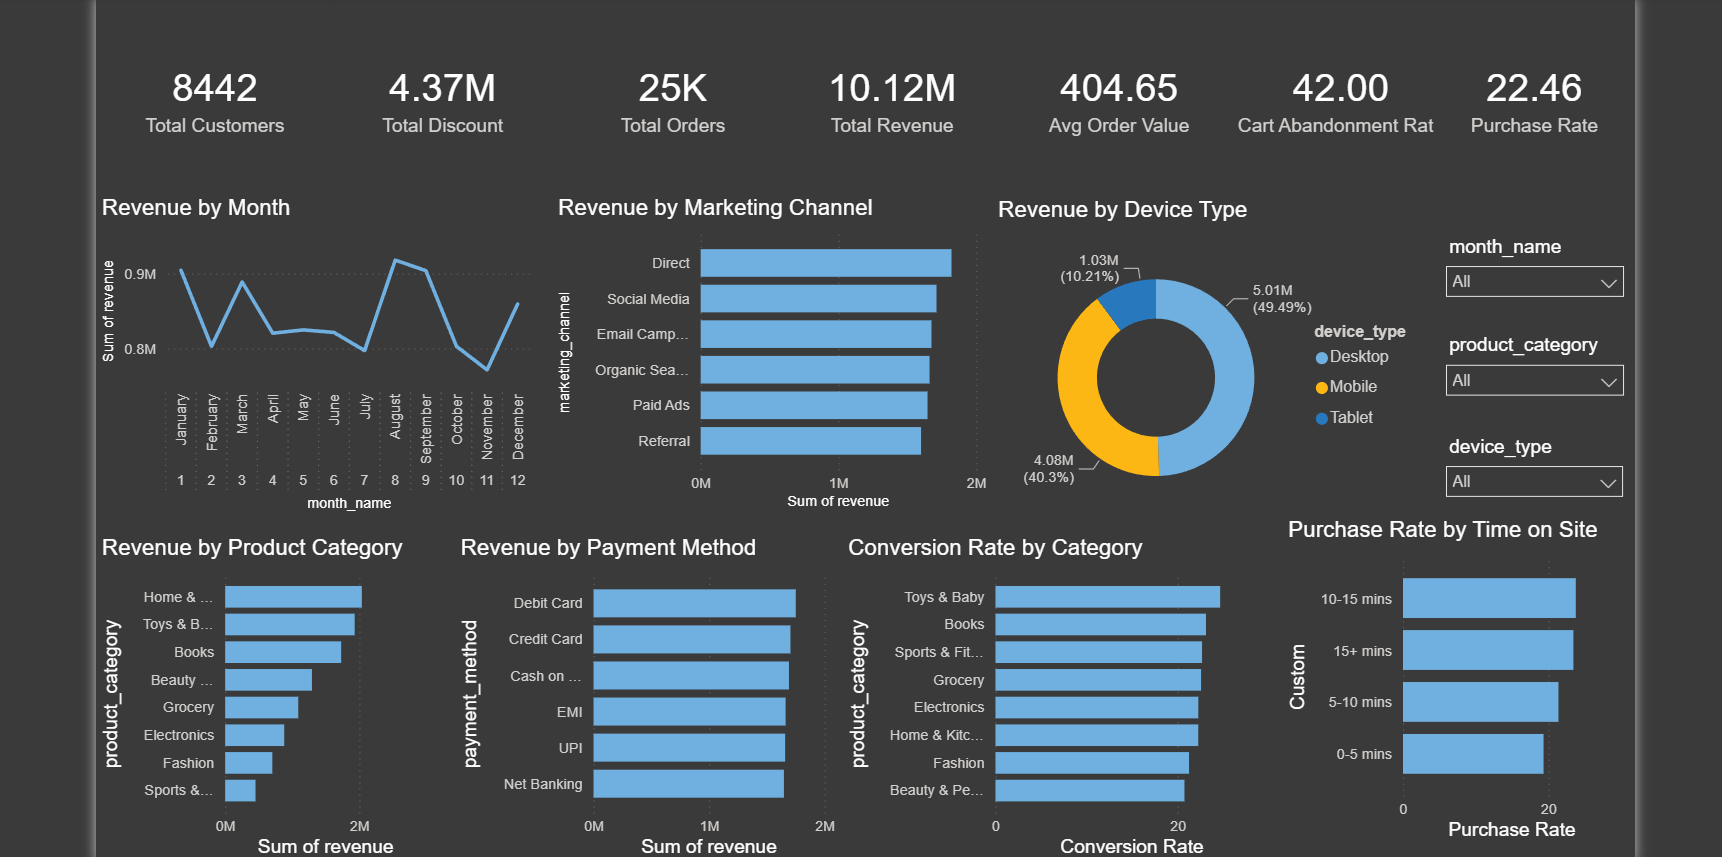

What the dashboard file says about the page in this screenshot:
{"tool":"powerbi","page":{"name":"Overview","canvas":[1280,900],"ordinal":0},"visuals":[{"type":"shape","box":[0,0,280,898.3],"z":0},{"type":"textbox","box":[12.8,47.7,239.5,122.1],"z":1000},{"type":"actionButton","box":[55.7,292.9,162.9,40],"z":2000},{"type":"actionButton","box":[62.9,358.6,158.6,40],"z":3000},{"type":"slicer","title":"Month","fields":{"Values":["ecommerce_cleaned_v2.month_name"]},"box":[54.2,455.8,170,96.7],"z":4000},{"type":"actionButton","box":[83.3,842.2,98.8,39.5],"z":7000},{"type":"donutChart","title":"Revenue by Device Type","fields":{"Y":["Sum(ecommerce_cleaned_v2.revenue)"],"Category":["ecommerce_cleaned_v2.device_type"]},"box":[279.9,486.3,265.5,414],"z":8000},{"type":"barChart","title":"Revenue by Product Category","fields":{"Category":["ecommerce_cleaned_v2.product_category"],"Y":["Sum(ecommerce_cleaned_v2.revenue)"]},"box":[545.4,486.3,320.7,412.7],"z":9000},{"type":"barChart","title":"Revenue by Marketing Channel","fields":{"Category":["ecommerce_cleaned_v2.marketing_channel"],"Y":["Sum(ecommerce_cleaned_v2.revenue)"]},"box":[866.1,109.1,414,251],"z":10000},{"type":"lineChart","title":"Revenue by Month","fields":{"Category":["ecommerce_cleaned_v2.month_name"],"Y":["Sum(ecommerce_cleaned_v2.revenue)"]},"box":[279.9,105.1,575.6,374.6],"z":11000},{"type":"actionButton","box":[57.1,225.7,164.3,40],"z":12000},{"type":"shape","box":[280,0,1000,108.6],"z":13000},{"type":"card","fields":{"Values":["churn_by_channel.Total Customers"]},"box":[293.1,3.1,198.5,102.3],"z":14000},{"type":"card","fields":{"Values":["churn_by_channel.Total Orders"]},"box":[507,3,172,102],"z":15000},{"type":"card","fields":{"Values":["churn_by_channel.Total Revenue"]},"box":[693.9,2.6,172.2,102.5],"z":16000},{"type":"card","fields":{"Values":["churn_by_channel.Avg Order Value"]},"box":[880.6,2.6,191.9,102.5],"z":17000},{"type":"card","fields":{"Values":["churn_by_channel.Purchase Rate"]},"box":[1096.1,2.6,169.5,102.5],"z":18000},{"type":"barChart","title":"Revenue by Payment Method","fields":{"Category":["ecommerce_cleaned_v2.payment_method"],"Y":["Sum(ecommerce_cleaned_v2.revenue)"]},"box":[866.1,360.1,414,252.3],"z":19000},{"type":"barChart","title":"Conversion Rate by Category","fields":{"Category":["ecommerce_cleaned_v2.product_category"],"Y":["churn_by_channel.Conversion Rate"]},"box":[866.1,625.6,414,273.4],"z":20000},{"type":"shape","box":[20,168.6,240,45],"z":21000},{"type":"shape","box":[19.2,410.8,240,45],"z":22000},{"type":"slicer","title":"Product Category","fields":{"Values":["ecommerce_cleaned_v2.product_category"]},"box":[52.2,552.2,170,97.1],"z":23000},{"type":"slicer","title":"Device Type","fields":{"Values":["ecommerce_cleaned_v2.device_type"]},"box":[48.9,648.9,170,96.7],"z":24000}]}

Visuals, with their boxes on the page's 1280x900 design canvas (x1, y1, x2, y2). These are canvas units, not pixel positions in the 1722x857 screenshot, which may show the page scaled, cropped or inside an application window:
shape: region(0, 0, 280, 898)
textbox: region(13, 48, 252, 170)
actionButton: region(56, 293, 219, 333)
actionButton: region(63, 359, 222, 399)
"Month" slicer: region(54, 456, 224, 552)
actionButton: region(83, 842, 182, 882)
"Revenue by Device Type" donutChart: region(280, 486, 545, 900)
"Revenue by Product Category" barChart: region(545, 486, 866, 899)
"Revenue by Marketing Channel" barChart: region(866, 109, 1280, 360)
"Revenue by Month" lineChart: region(280, 105, 856, 480)
actionButton: region(57, 226, 221, 266)
shape: region(280, 0, 1280, 109)
card - churn_by_channel.Total Customers: region(293, 3, 492, 105)
card - churn_by_channel.Total Orders: region(507, 3, 679, 105)
card - churn_by_channel.Total Revenue: region(694, 3, 866, 105)
card - churn_by_channel.Avg Order Value: region(881, 3, 1072, 105)
card - churn_by_channel.Purchase Rate: region(1096, 3, 1266, 105)
"Revenue by Payment Method" barChart: region(866, 360, 1280, 612)
"Conversion Rate by Category" barChart: region(866, 626, 1280, 899)
shape: region(20, 169, 260, 214)
shape: region(19, 411, 259, 456)
"Product Category" slicer: region(52, 552, 222, 649)
"Device Type" slicer: region(49, 649, 219, 746)
